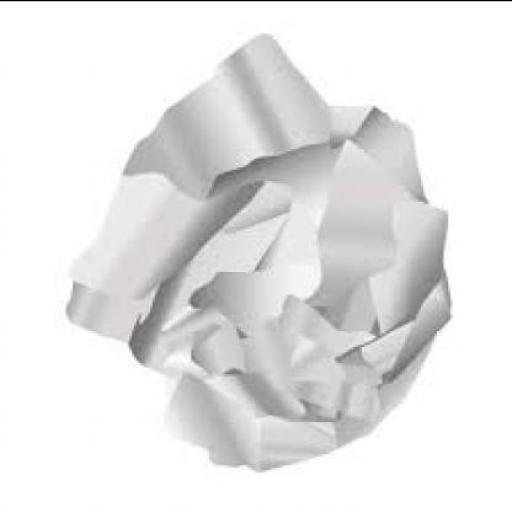paper: (64, 35, 450, 475)
